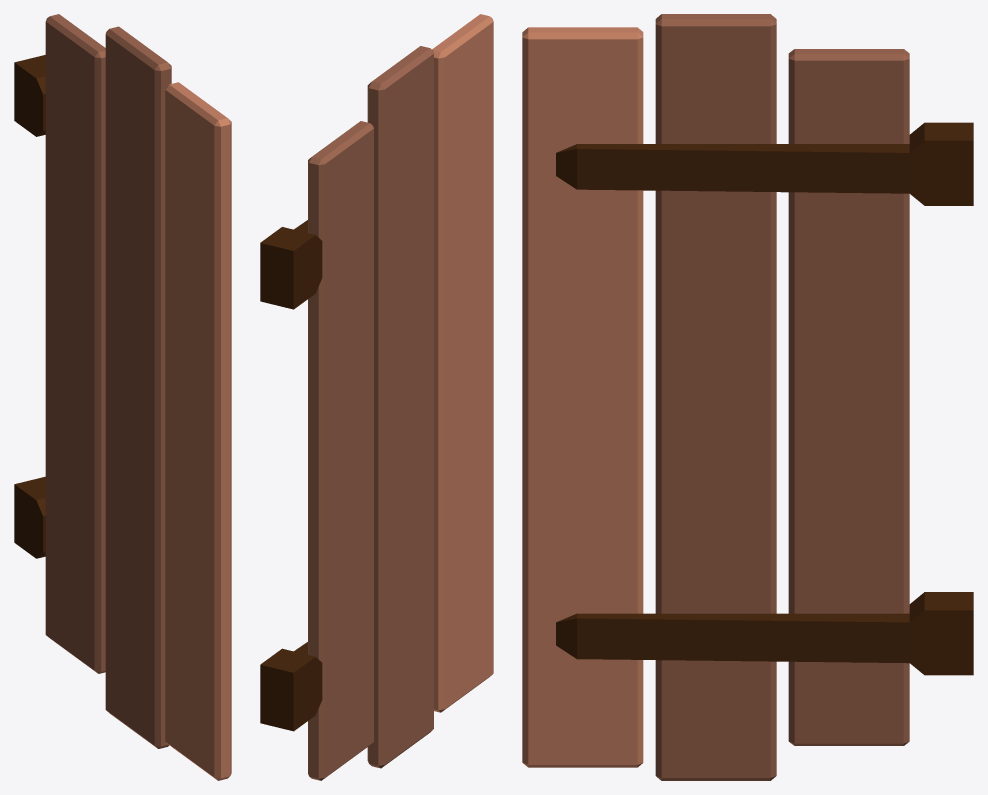
Rendered from Shutter B.fbx.
3 views of the same model, side by side, from view 1: azimuth 30°, elevation 25°; view 2: azimuth 150°, elevation 25°; view 3: azimuth 270°, elevation 25° (orthographic). The views are drawn at different scales.
Visible parts, largest first — view 1: Shutter B; view 2: Shutter B; view 3: Shutter B.
Boxes of the visible parts, box(x1,y1,x2,y2) form: Shutter B: box(14, 14, 231, 780); Shutter B: box(260, 14, 493, 780); Shutter B: box(522, 14, 973, 780).
Bounding box in the file's own units: 6.15 × 120 × 64.26.
